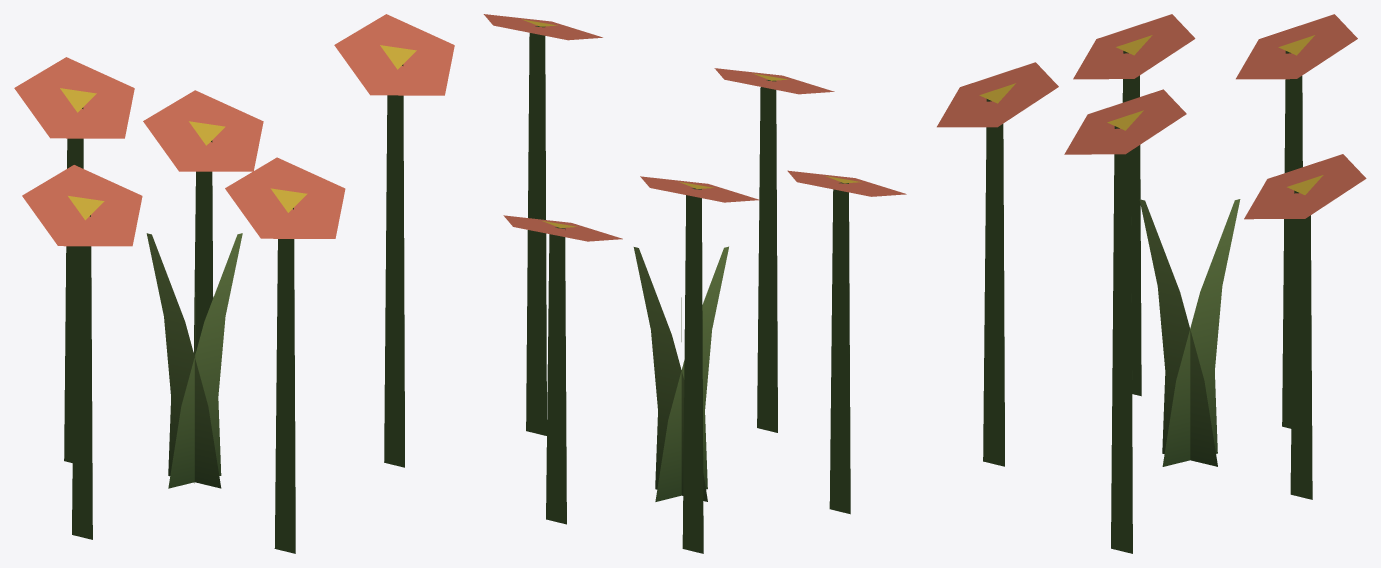
Rendered from flower_e6795c.glb.
3 renders of one model, left to right at view 1: azimuth 30°, elevation 25°; view 2: azimuth 150°, elevation 25°; view 3: azimuth 270°, elevation 25°, orthographic. The views are drawn at different scales.
Parts seen in each view (by area): view 1: part_0; view 2: part_0; view 3: part_0.
Boxes of the visible parts, <box> form: part_0: <box>14,14,454,553</box>; part_0: <box>483,14,906,553</box>; part_0: <box>937,14,1366,553</box>.
Size of the model in its own units: 0.543 by 0.5344 by 0.4697.
